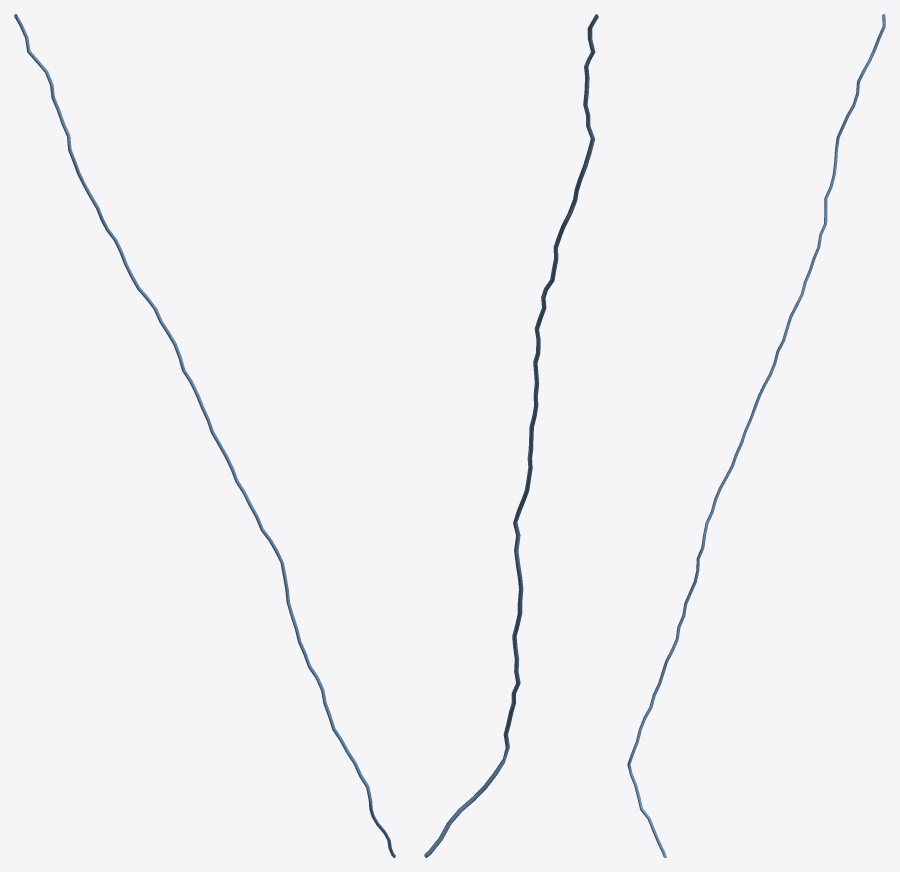
Rendered from sweep270.fbx.
3 views of the same model, side by side, from view 1: azimuth 30°, elevation 25°; view 2: azimuth 150°, elevation 25°; view 3: azimuth 270°, elevation 25° (orthographic). The views are drawn at different scales.
Visible parts, largest first — view 1: sweep270; view 2: sweep270; view 3: sweep270.
Boxes of the visible parts, <box> form: sweep270: <box>14,14,395,857</box>; sweep270: <box>424,14,598,857</box>; sweep270: <box>627,14,885,857</box>.
Bounding box in the file's own units: 1.68 × 5.05 × 1.61.
